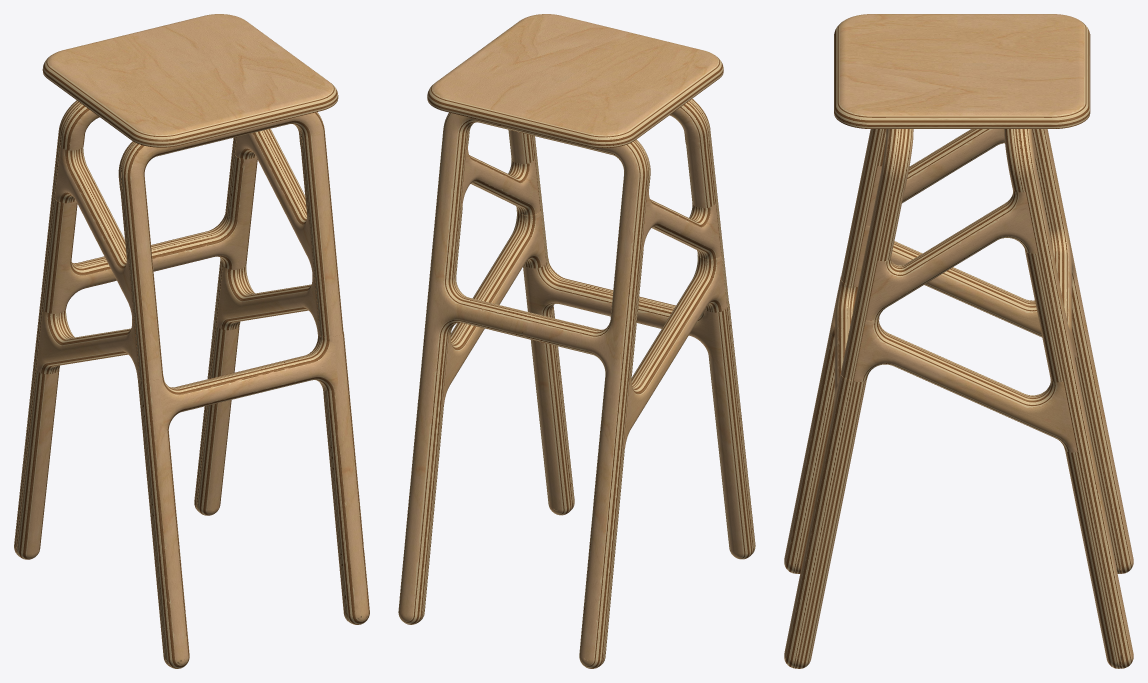
File: stool.glb
The picture shows the model from 3 angles, left to right: view 1: azimuth 30°, elevation 25°; view 2: azimuth 150°, elevation 25°; view 3: azimuth 270°, elevation 25°; orthographic projection. The views are drawn at different scales.
Visible parts, largest first — view 1: Stool.001; view 2: Stool.001; view 3: Stool.001.
Part boxes in pixels (x1,y1,x2,y2): Stool.001: (14, 14, 369, 668); Stool.001: (398, 14, 755, 668); Stool.001: (784, 14, 1133, 668).
Size of the model in its own units: 0.3441 by 0.8398 by 0.4775.
Materials: 2 (2 with a texture image).
